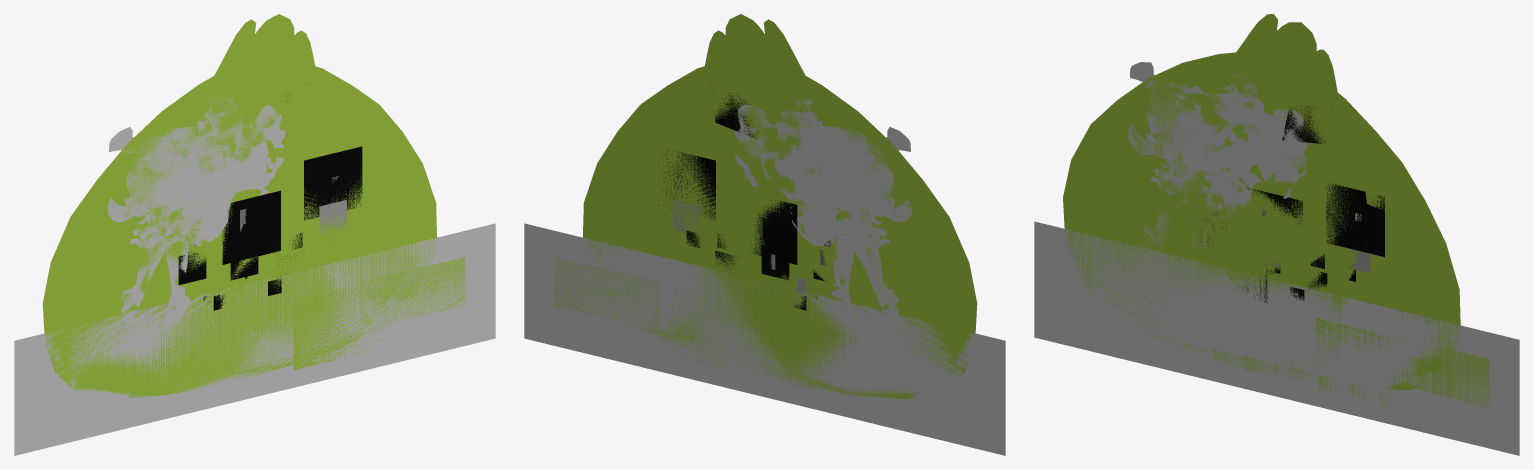
File: Skeleton Prefab Mesh _Eb_KingSlime_03_.glb
3 views of the same model, side by side, from view 1: azimuth 30°, elevation 25°; view 2: azimuth 150°, elevation 25°; view 3: azimuth 330°, elevation 25° (orthographic).
Visible parts, largest first — view 1: Skeleton Prefab Mesh "Eb_KingSlime_03"; view 2: Skeleton Prefab Mesh "Eb_KingSlime_03"; view 3: Skeleton Prefab Mesh "Eb_KingSlime_03".
Boxes of the visible parts, bbox=[...] form: Skeleton Prefab Mesh "Eb_KingSlime_03": bbox=[14, 14, 495, 455]; Skeleton Prefab Mesh "Eb_KingSlime_03": bbox=[524, 14, 1005, 455]; Skeleton Prefab Mesh "Eb_KingSlime_03": bbox=[1034, 14, 1519, 455].
Bounding box in the file's own units: 5.03 × 3.78 × 0.
